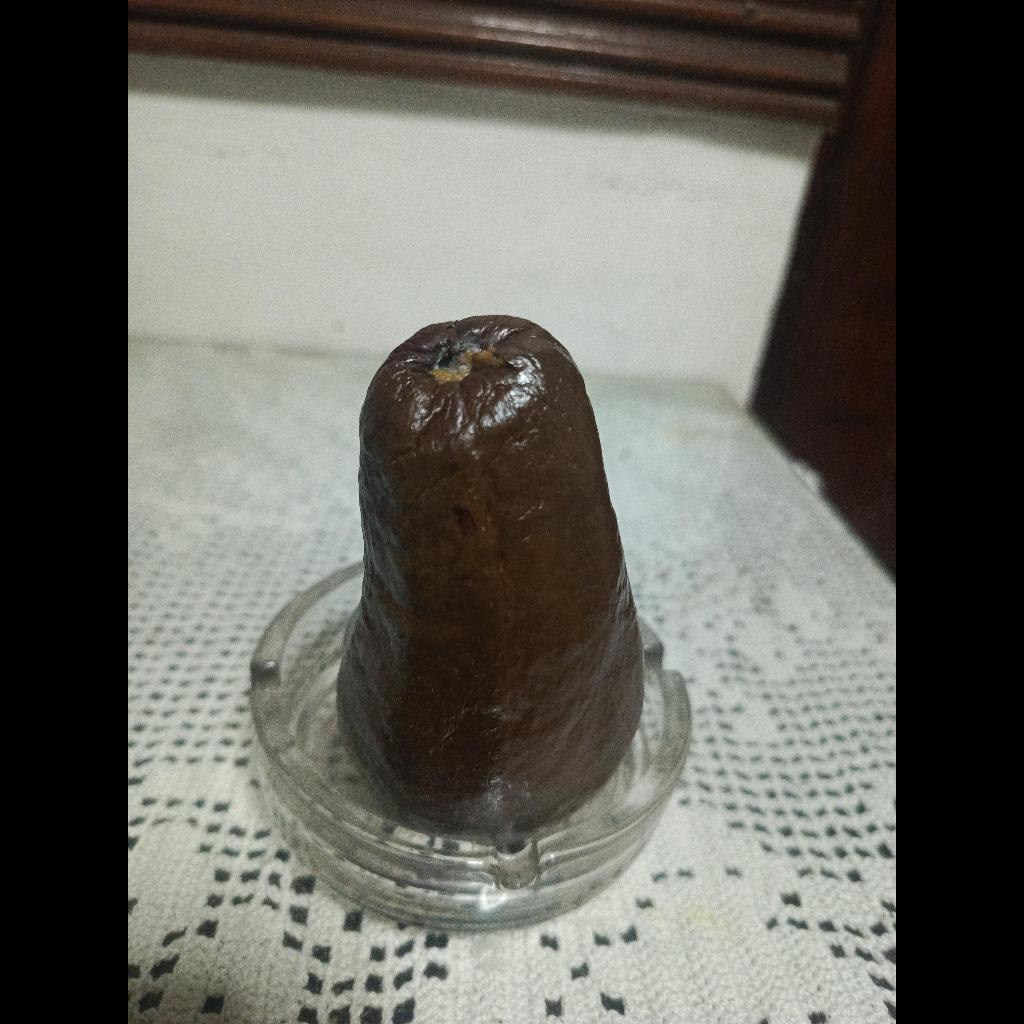stem end rot: (339, 316, 642, 833)
